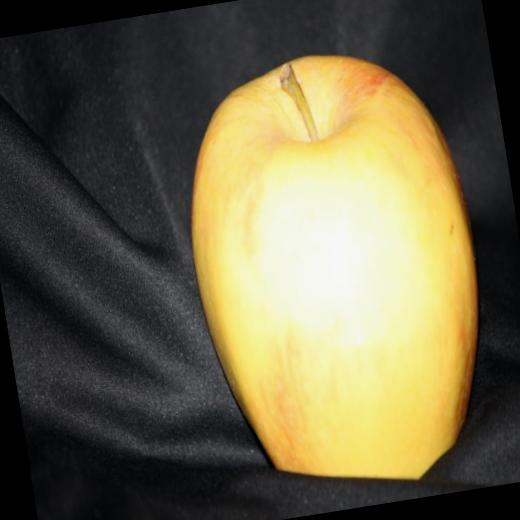Apple: (163, 32, 510, 510)
